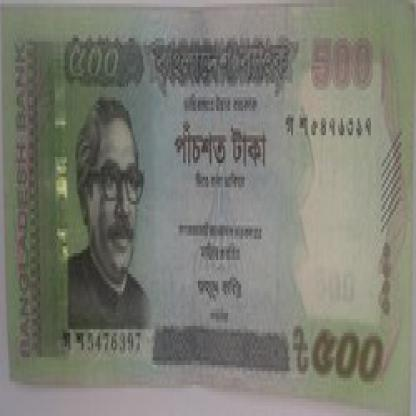500 taka: (304, 298, 394, 392), (58, 38, 150, 94)
currency: (2, 11, 411, 413)
